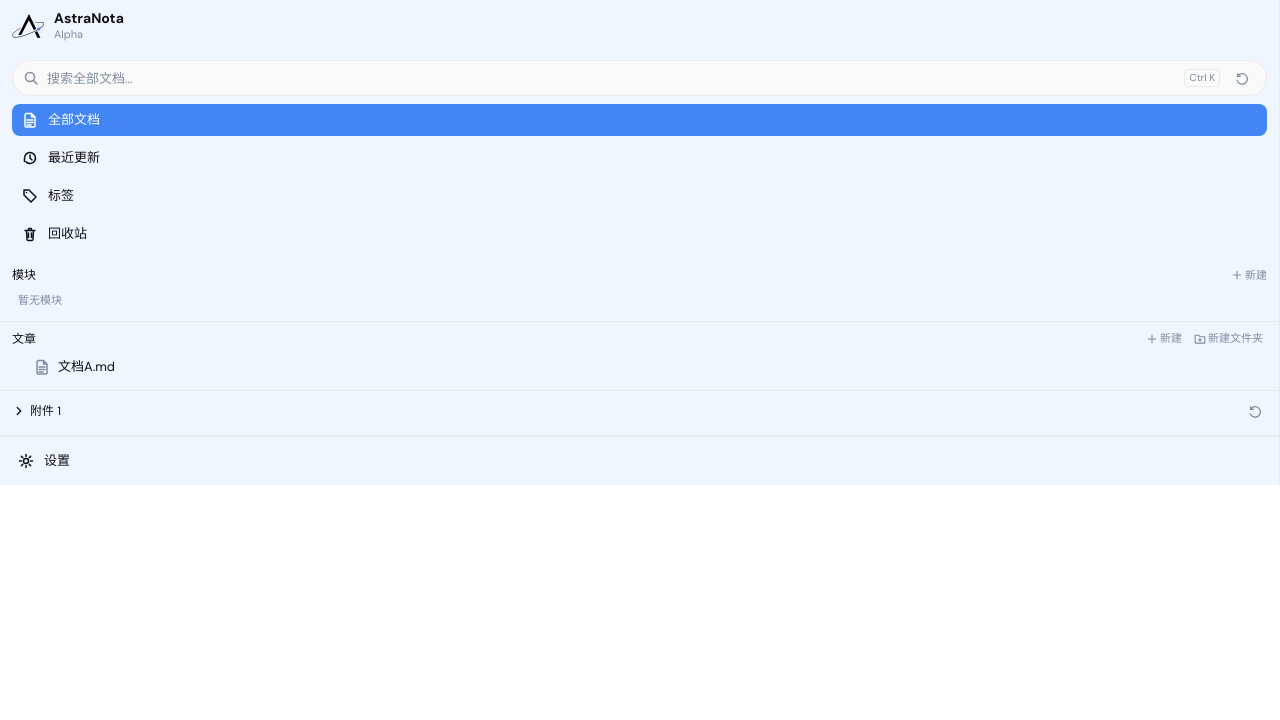
Test case: L-3 详情：全部引用 / 信息量 / 跳转 › 未引用附件：显示「未被…引用」+ 全路径 + 大小 + 修改时间
The width and height of the screenshot is (1280, 720).
What coordinates should you click on to do the following:
click the button "附件 1"
I would click on:
 (36, 410)
Its box is x1=12 y1=402 x2=61 y2=420.
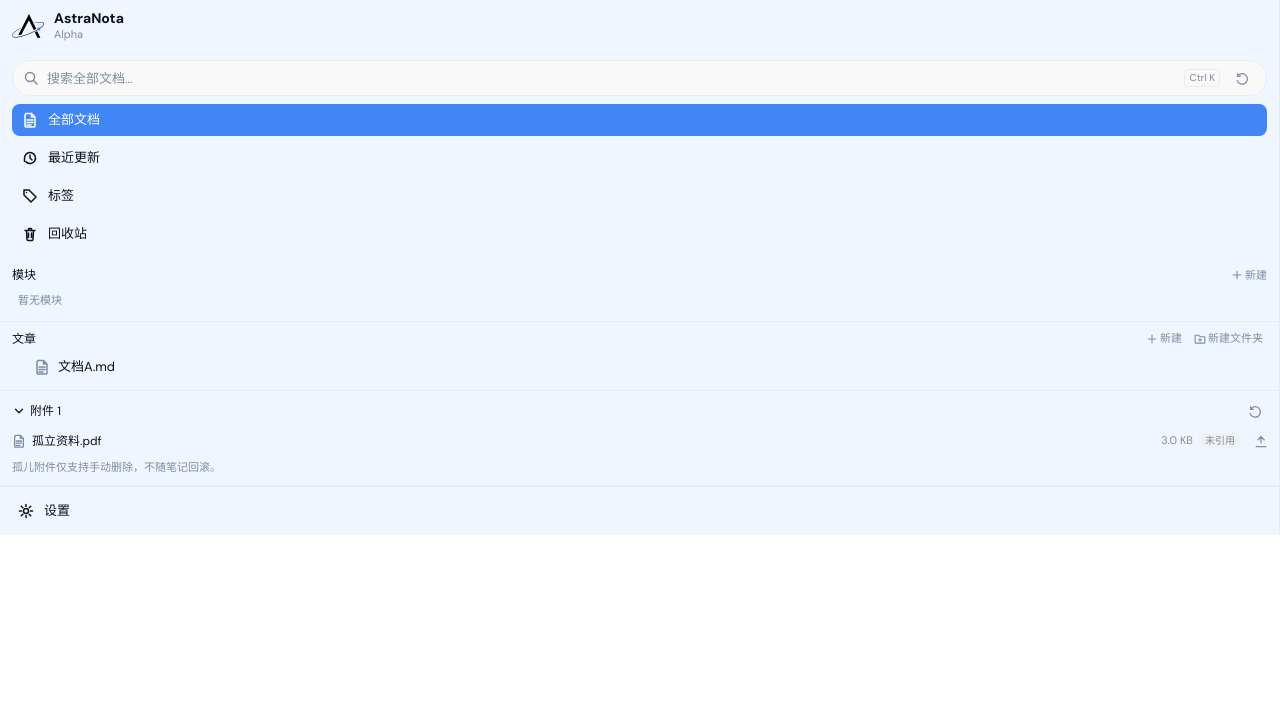
Result: the button "孤立资料.pdf 3.0 KB 未引用" is shown
What coordinates should you click on to do the following:
click the button "孤立资料.pdf 3.0 KB 未引用"
I would click on:
 (67, 440)
Its box is x1=6 y1=426 x2=1247 y2=454.
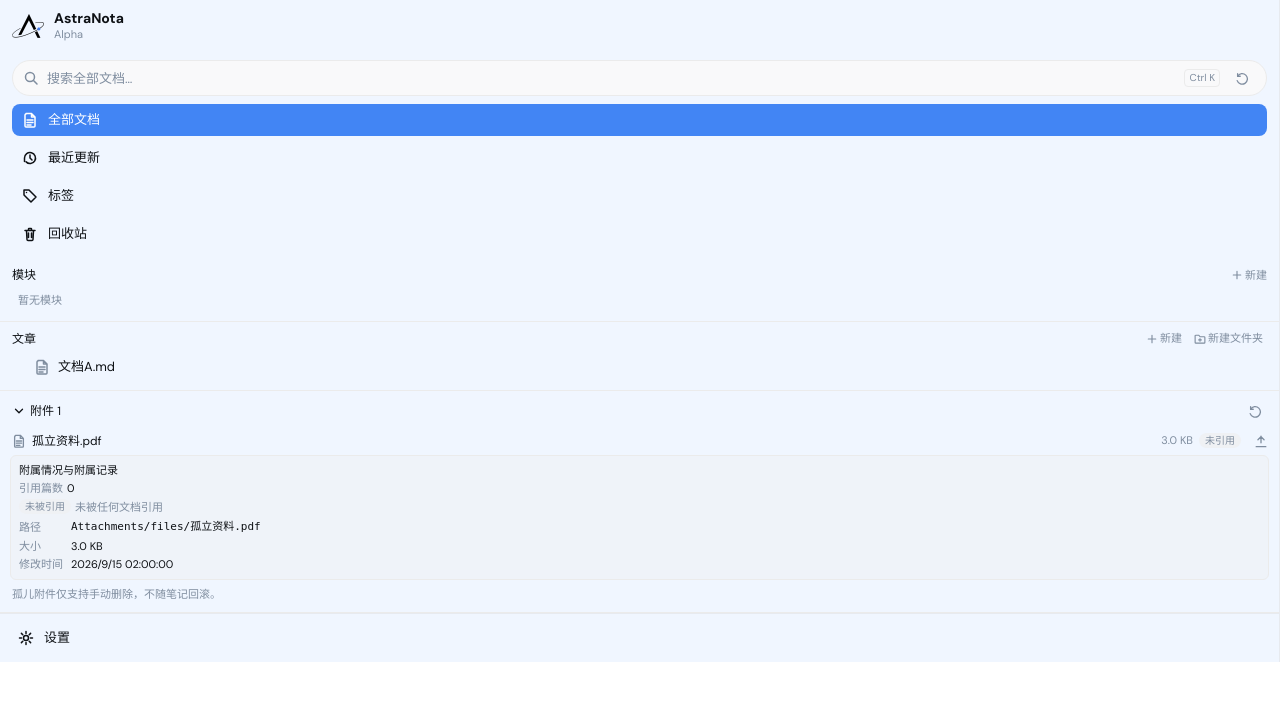
Result: the text "未引用" is shown at x1=1199 y1=433 x2=1241 y2=448
Result: the text "未被引用" is shown at x1=19 y1=499 x2=71 y2=514
Result: the text "Attachments/files/孤立资料.pdf" is shown at x1=71 y1=520 x2=261 y2=533
